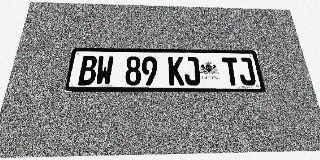8: (125, 56, 141, 85)
9: (141, 56, 157, 85)
B: (78, 56, 98, 85)
J: (237, 57, 256, 86), (183, 57, 201, 85)
K: (168, 57, 185, 85)
T: (222, 57, 241, 85)
W: (95, 56, 114, 85)
